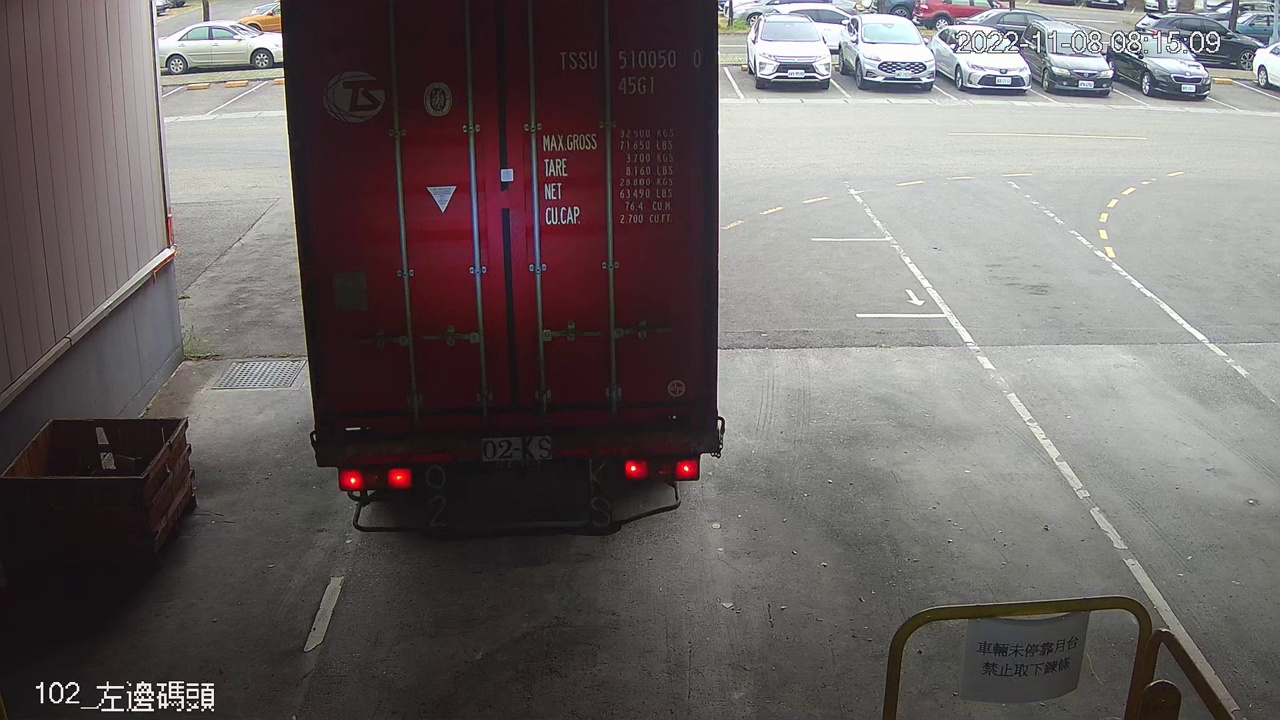container: (548, 39, 708, 102)
